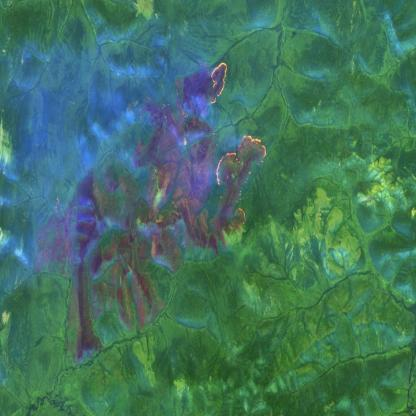fire: (210, 132, 275, 237), (184, 58, 240, 110)
